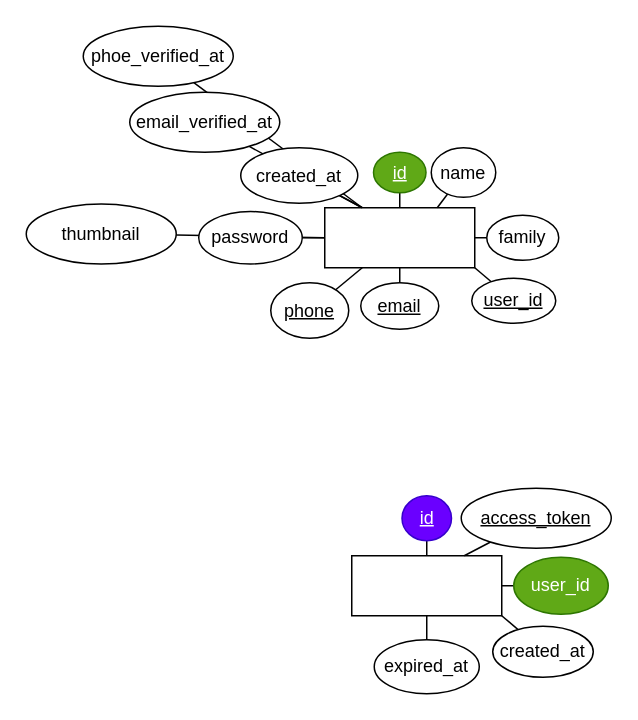
The diagram is 638 pixels wide and 720 high, and some of its shapes have lost their labels. Here are the shapes that lost their labels. From the top down, the centre of each, then its label:
pixel 399 237: users
pixel 426 585: user_access _tokens
